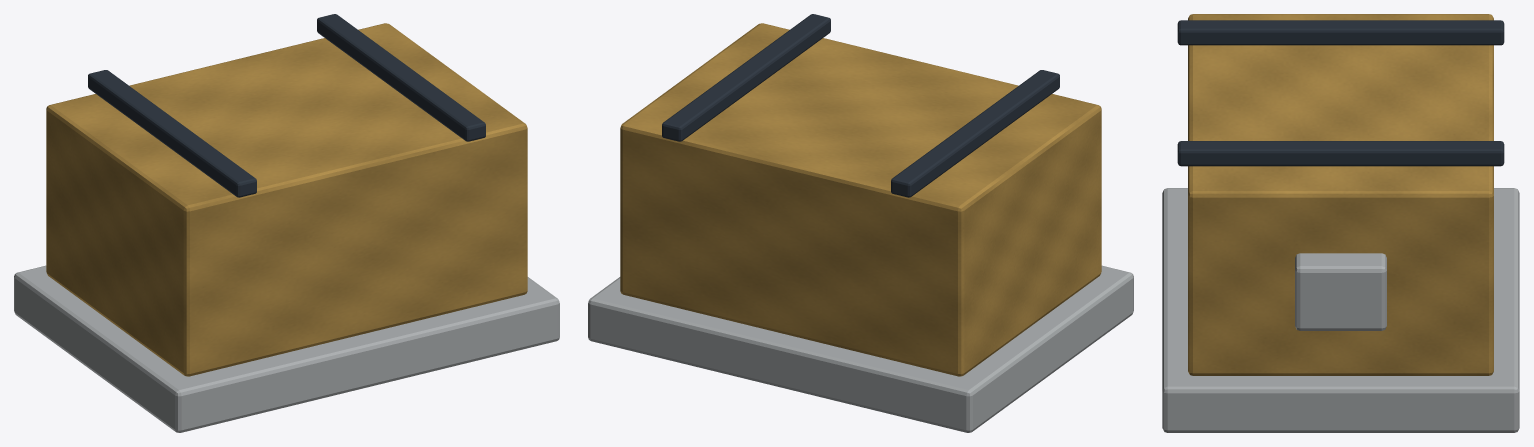
Rendered from lunar_thermal_insulation.glb.
3 renders of one model, left to right at view 1: azimuth 30°, elevation 25°; view 2: azimuth 150°, elevation 25°; view 3: azimuth 270°, elevation 25°, orthographic. The views are drawn at different scales.
Visible parts, largest first — view 1: Thermal_Module, Insulation_Mount, Retention_Strap, Retention_Strap.001; view 2: Thermal_Module, Insulation_Mount, Retention_Strap, Retention_Strap.001; view 3: Thermal_Module, Insulation_Mount, Retention_Strap, Retention_Strap.001, Thermal_Connector.
Part boxes in pixels (left/top/right/bottom): Thermal_Module: left=46, top=23, right=527, bottom=376; Insulation_Mount: left=14, top=265, right=559, bottom=432; Retention_Strap: left=88, top=70, right=256, bottom=197; Retention_Strap.001: left=317, top=14, right=485, bottom=141; Thermal_Module: left=620, top=23, right=1101, bottom=376; Insulation_Mount: left=588, top=265, right=1133, bottom=432; Retention_Strap: left=891, top=70, right=1059, bottom=197; Retention_Strap.001: left=662, top=14, right=830, bottom=141; Thermal_Module: left=1188, top=14, right=1493, bottom=375; Insulation_Mount: left=1162, top=188, right=1519, bottom=432; Retention_Strap: left=1177, top=20, right=1504, bottom=45; Retention_Strap.001: left=1177, top=141, right=1504, bottom=166; Thermal_Connector: left=1295, top=253, right=1386, bottom=330.
Size of the model in its own units: 0.48 by 0.269 by 0.35.
Materials: 3 (1 with a texture image).
